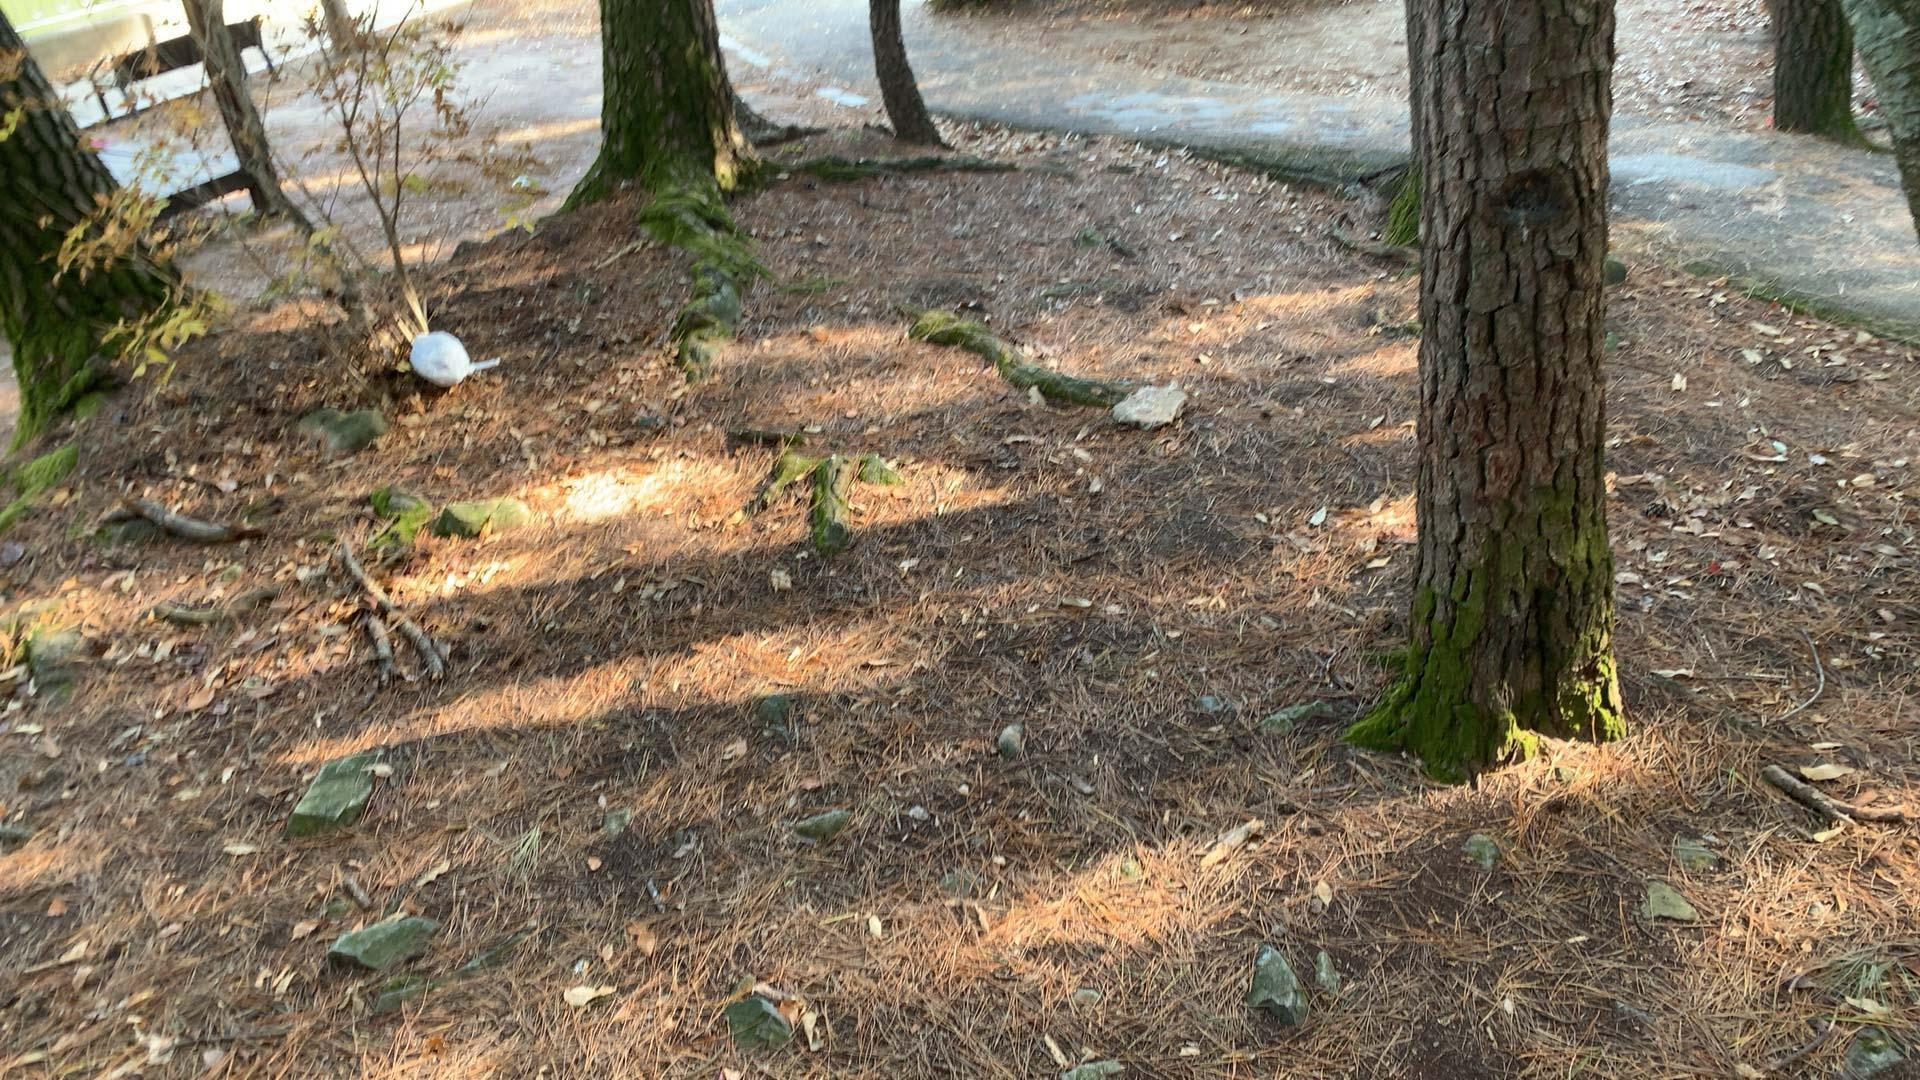white_bag: (392, 320, 501, 404)
